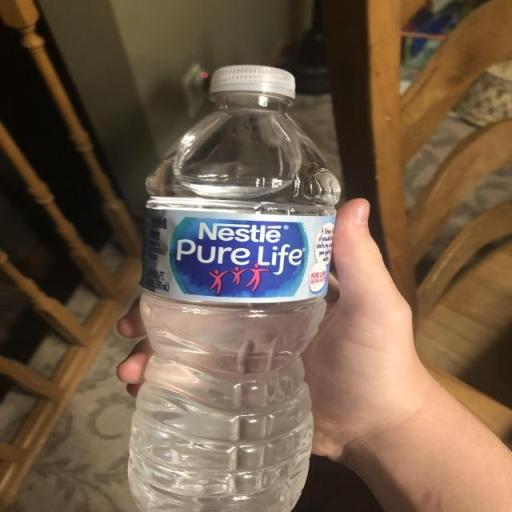plastic: (126, 64, 341, 512)
